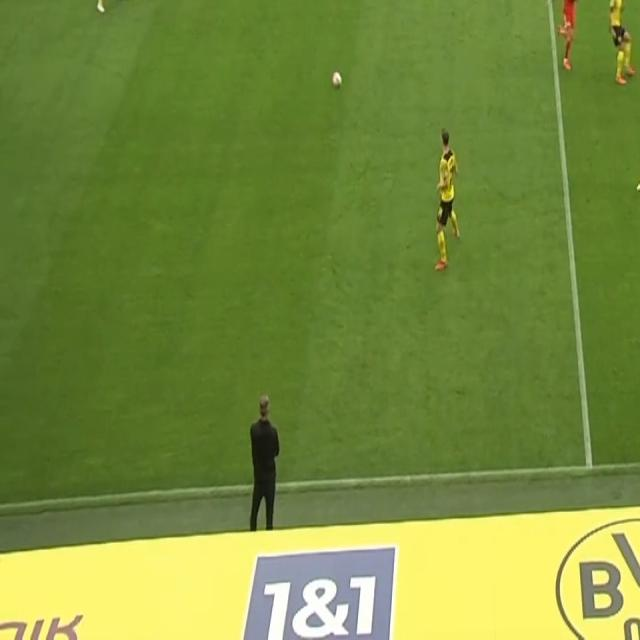ball: (330, 69, 343, 91)
